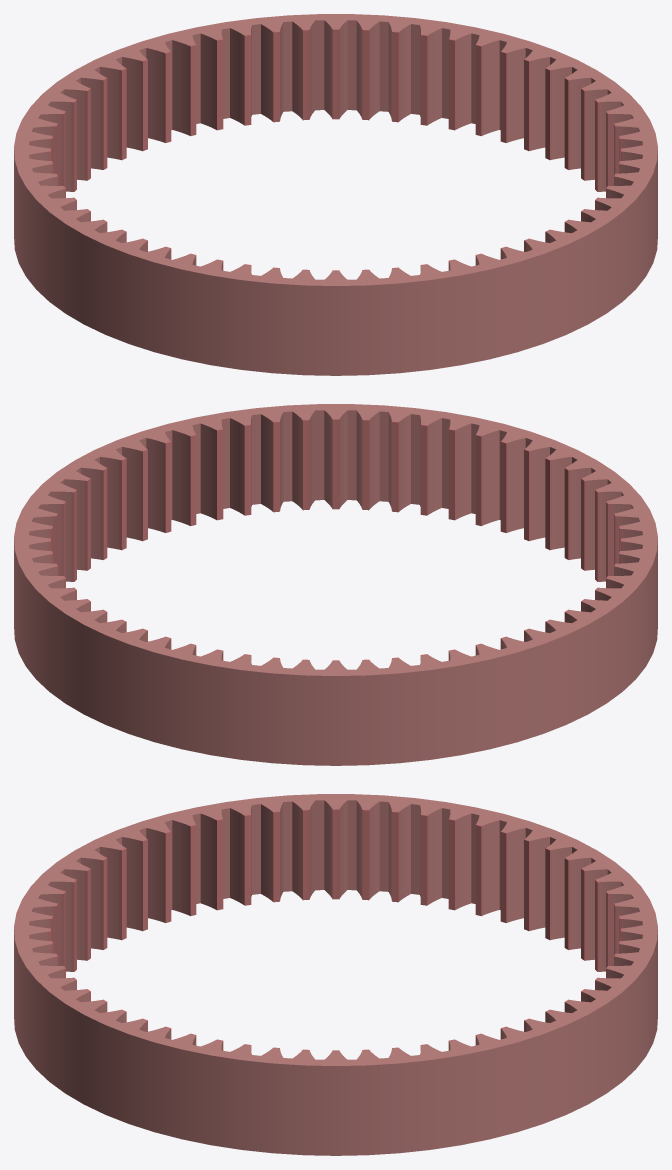
File: step_03.glb
The picture shows the model from 3 angles, top to bottom: view 1: azimuth 30°, elevation 25°; view 2: azimuth 150°, elevation 25°; view 3: azimuth 270°, elevation 25°; orthographic projection.
Visible parts, largest first — view 1: part__ring gear, removed__ring gear; view 2: part__ring gear, removed__ring gear; view 3: part__ring gear, removed__ring gear.
Boxes of the visible parts, x1,y1,x2,y2 form: part__ring gear: (14,14,657,375); removed__ring gear: (48,28,623,271); part__ring gear: (14,404,657,765); removed__ring gear: (48,418,623,661); part__ring gear: (14,794,657,1155); removed__ring gear: (48,808,623,1051).
Size of the model in its own units: 64.96 by 10 by 64.98.
